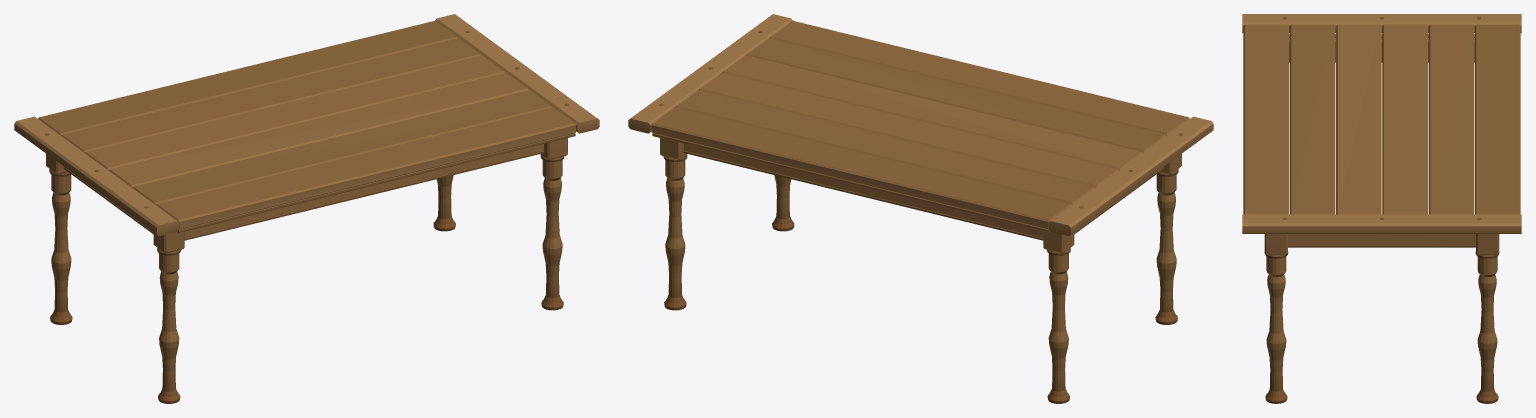
The model's file is rect-table.glb.
3 renders of one model, left to right at view 1: azimuth 30°, elevation 25°; view 2: azimuth 150°, elevation 25°; view 3: azimuth 270°, elevation 25°, orthographic. The views are drawn at different scales.
Parts seen in each view (by area): view 1: rect_table; view 2: rect_table; view 3: rect_table.
Boxes of the visible parts, x1=… form: rect_table: x1=14, y1=14, x2=599, y2=403; rect_table: x1=628, y1=14, x2=1213, y2=403; rect_table: x1=1242, y1=14, x2=1521, y2=403.
Bounding box in the file's own units: 1.8 × 0.7535 × 1.01.
